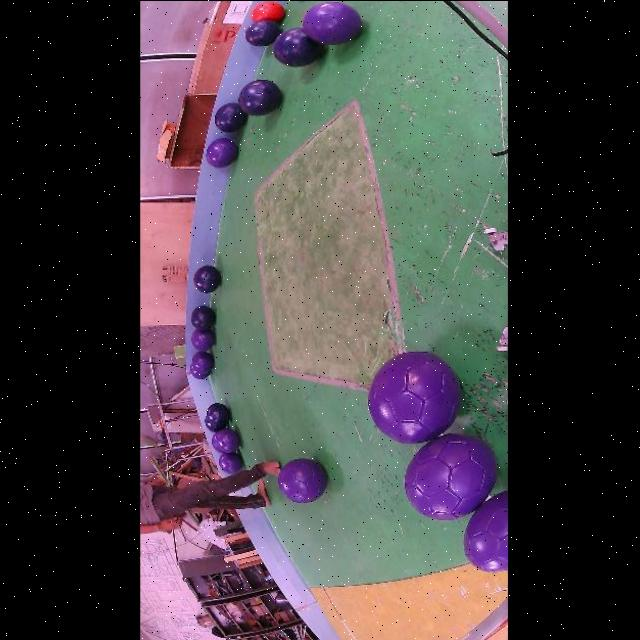B: (140, 532, 226, 640), (273, 27, 323, 66), (239, 78, 282, 115), (214, 102, 247, 132), (245, 19, 281, 45), (194, 265, 221, 293), (205, 403, 230, 431), (191, 304, 216, 330)
P: (369, 350, 461, 442), (405, 433, 497, 519), (464, 489, 508, 571), (303, 0, 363, 43), (278, 458, 327, 502), (207, 137, 239, 167), (212, 427, 240, 452), (191, 328, 216, 350), (220, 451, 243, 473), (191, 350, 214, 372)
R: (252, 0, 285, 22)
